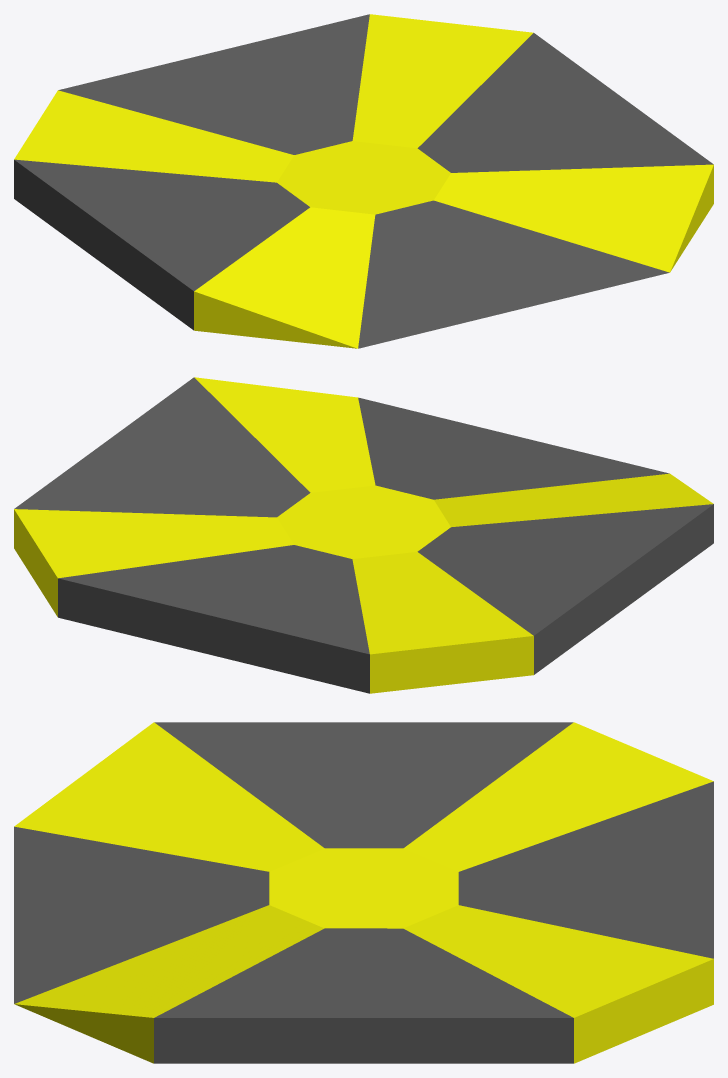
File: Depart_AMW.fbx
The picture shows the model from 3 angles, top to bottom: view 1: azimuth 30°, elevation 25°; view 2: azimuth 150°, elevation 25°; view 3: azimuth 270°, elevation 25°; orthographic projection. The views are drawn at different scales.
Visible parts, largest first — view 1: polySurface48; view 2: polySurface48; view 3: polySurface48.
Boxes of the visible parts, x1,y1,x2,y2 form: polySurface48: (14, 14, 713, 348); polySurface48: (14, 377, 713, 693); polySurface48: (14, 722, 713, 1063).
Size of the model in its own units: 0.2358 by 0.017 by 0.2358.
